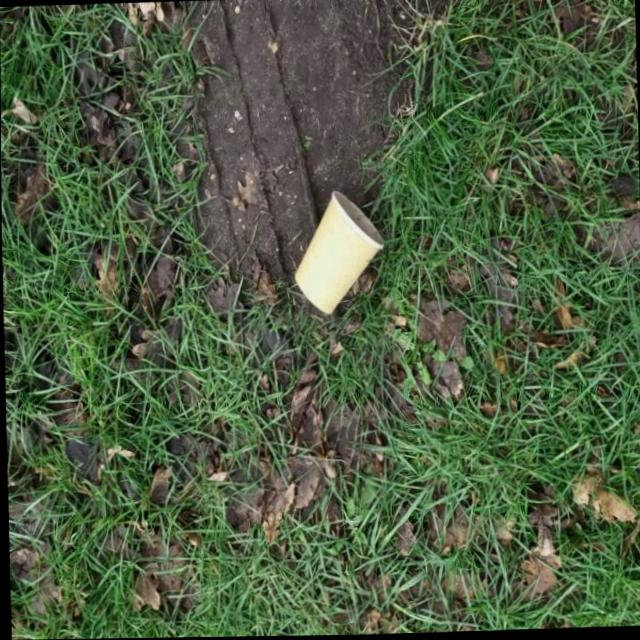Cup: (289, 186, 388, 318)
